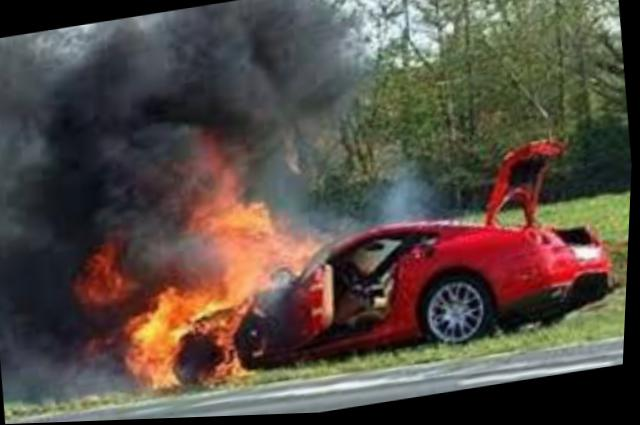fire: (61, 100, 350, 412)
